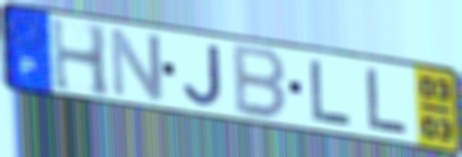B: (232, 41, 289, 123)
H: (48, 14, 114, 101)
J: (181, 42, 225, 108)
L: (363, 65, 412, 136), (307, 57, 356, 128)
N: (108, 25, 167, 104)
